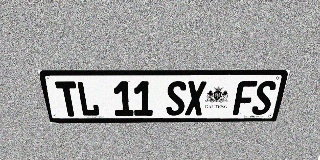1: (112, 81, 134, 116), (133, 81, 153, 116)
F: (232, 81, 258, 115)
L: (76, 81, 100, 116)
S: (251, 81, 277, 115), (166, 81, 186, 116)
T: (55, 81, 81, 116)
X: (185, 81, 207, 115)
